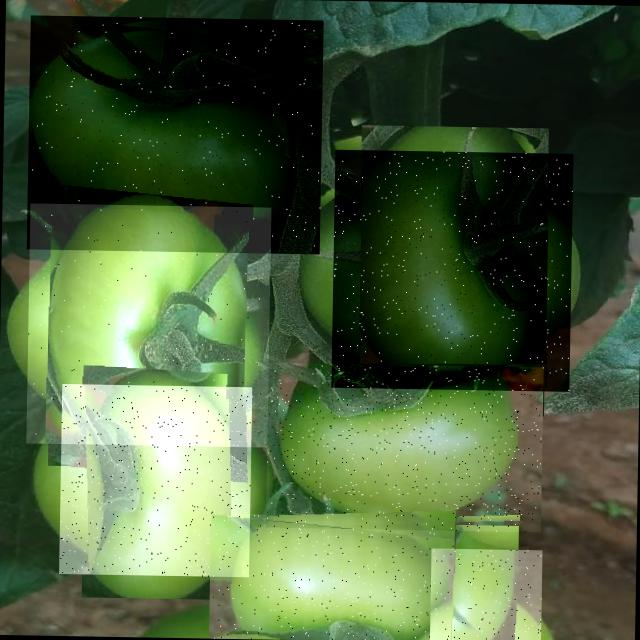Unripe Tomato: (26, 15, 323, 254), (26, 203, 271, 447), (331, 150, 573, 392), (266, 362, 544, 532), (58, 384, 252, 576), (208, 513, 454, 640), (429, 548, 542, 640)
